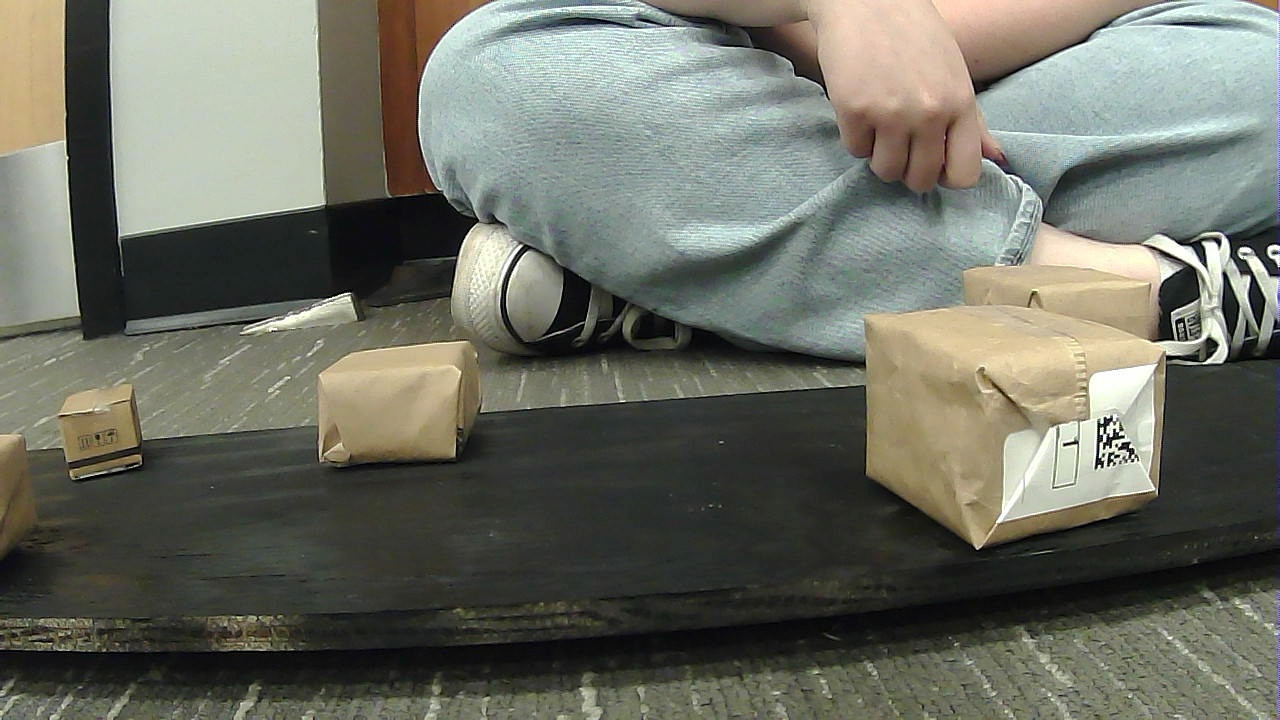package: (842, 308, 1197, 549), (294, 322, 512, 469), (954, 252, 1187, 362), (46, 379, 166, 475), (1, 427, 51, 560)
